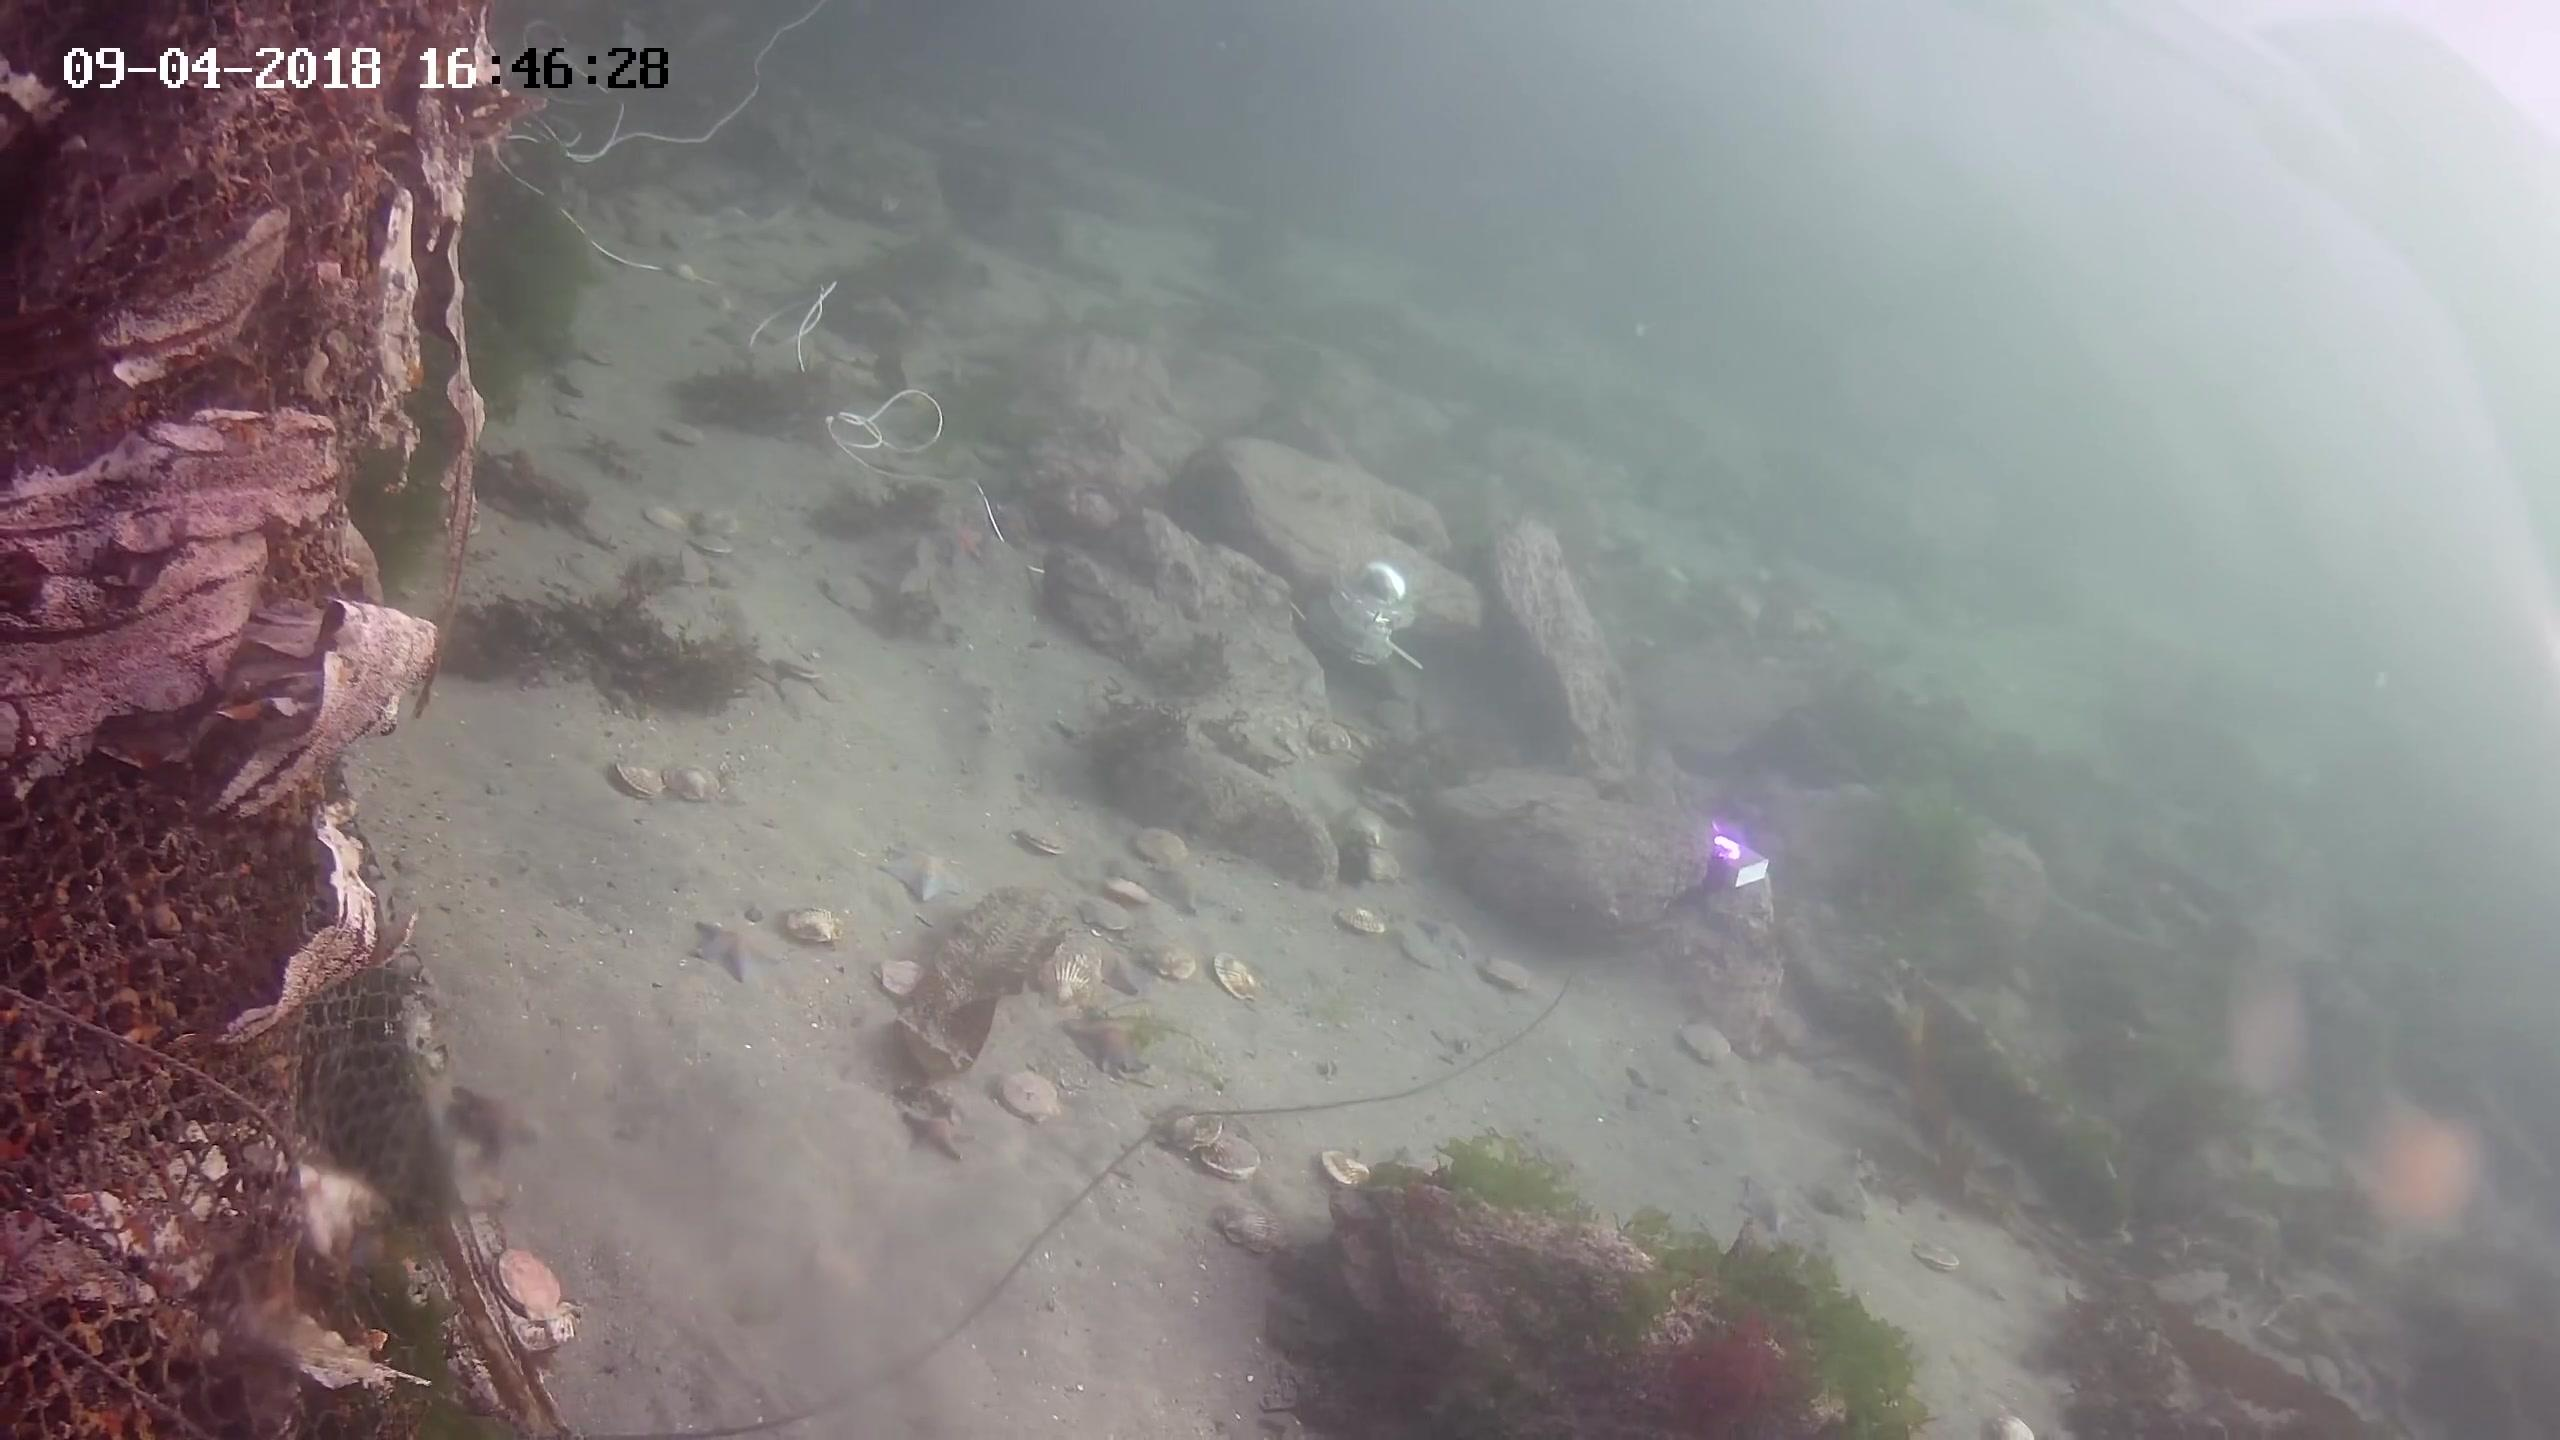scallop: (491, 1248, 571, 1327), (1206, 1201, 1289, 1259), (1013, 816, 1083, 869), (999, 1067, 1064, 1124), (1043, 944, 1102, 1004), (784, 897, 855, 946), (1196, 1132, 1261, 1183), (1138, 869, 1210, 914), (1153, 1099, 1215, 1152), (1131, 828, 1196, 877), (601, 754, 666, 804), (1482, 951, 1547, 999), (870, 958, 935, 1002), (1313, 1145, 1378, 1187), (1080, 888, 1132, 939), (636, 494, 696, 538), (1679, 1020, 1735, 1064), (1215, 949, 1264, 999), (651, 411, 710, 452), (1326, 902, 1391, 939), (1145, 941, 1197, 979), (673, 761, 721, 804), (1978, 1407, 2038, 1440), (767, 649, 825, 680), (659, 545, 709, 582), (1915, 1234, 1966, 1269), (1101, 876, 1153, 905)
starfish: (445, 1085, 549, 1164), (693, 913, 788, 983), (1067, 1007, 1162, 1078), (1734, 1164, 1820, 1240), (877, 840, 971, 905), (898, 1101, 978, 1159), (1421, 909, 1482, 965), (934, 515, 993, 570)
